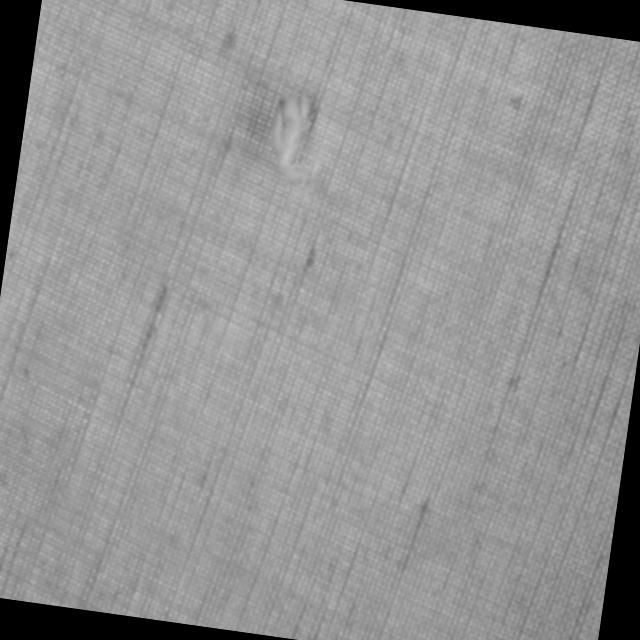objects: (258, 82, 334, 192)
